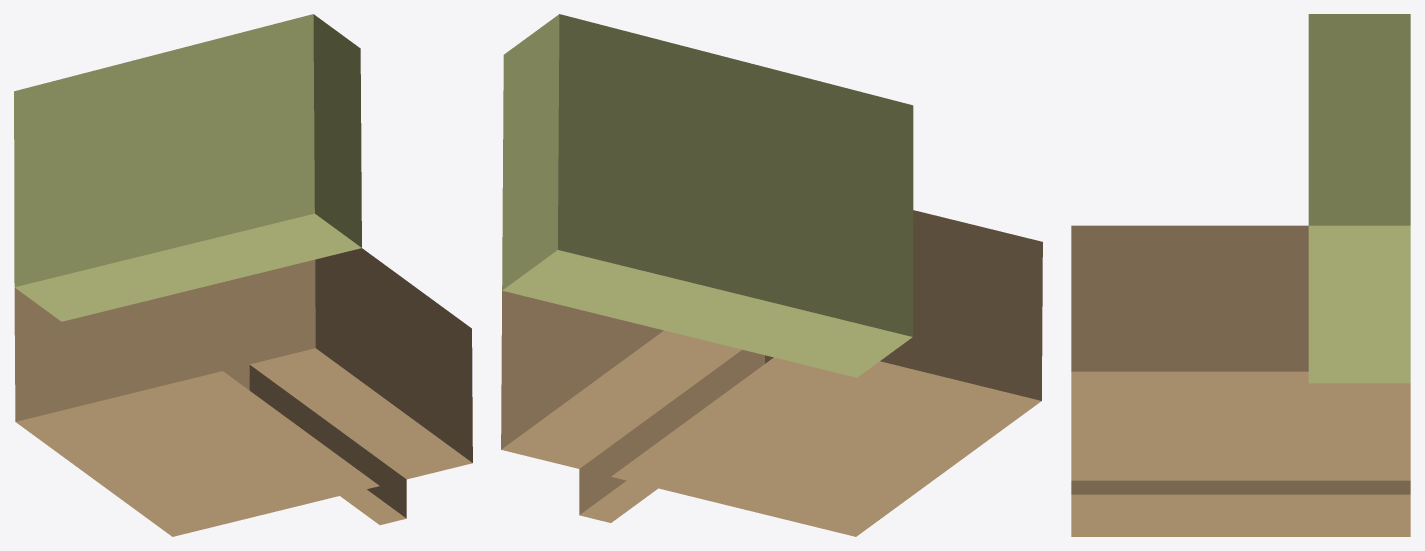
3 views of the same model, side by side, from view 1: azimuth 30°, elevation 25°; view 2: azimuth 150°, elevation 25°; view 3: azimuth 270°, elevation 25° (orthographic). The views are drawn at different scales.
Visible parts, largest first — view 1: 0_0_3_1_2_3_1_0_3; view 2: 0_0_3_1_2_3_1_0_3; view 3: 0_0_3_1_2_3_1_0_3.
Part boxes in pixels (x1,y1,x2,y2): 0_0_3_1_2_3_1_0_3: (14, 14, 472, 536); 0_0_3_1_2_3_1_0_3: (501, 14, 1042, 536); 0_0_3_1_2_3_1_0_3: (1071, 14, 1410, 536).
Bounding box in the file's own units: 33.25 × 39.4 × 30.
